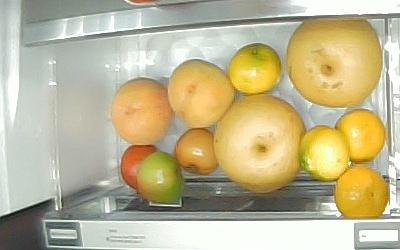peach: (166, 59, 234, 129), (110, 79, 171, 146)
pear: (214, 94, 305, 194), (286, 16, 382, 106)
tangerine: (334, 165, 388, 217), (299, 125, 350, 180), (228, 42, 281, 94), (335, 109, 386, 163)
tomato: (136, 151, 183, 203), (174, 128, 217, 175), (120, 145, 158, 189)
